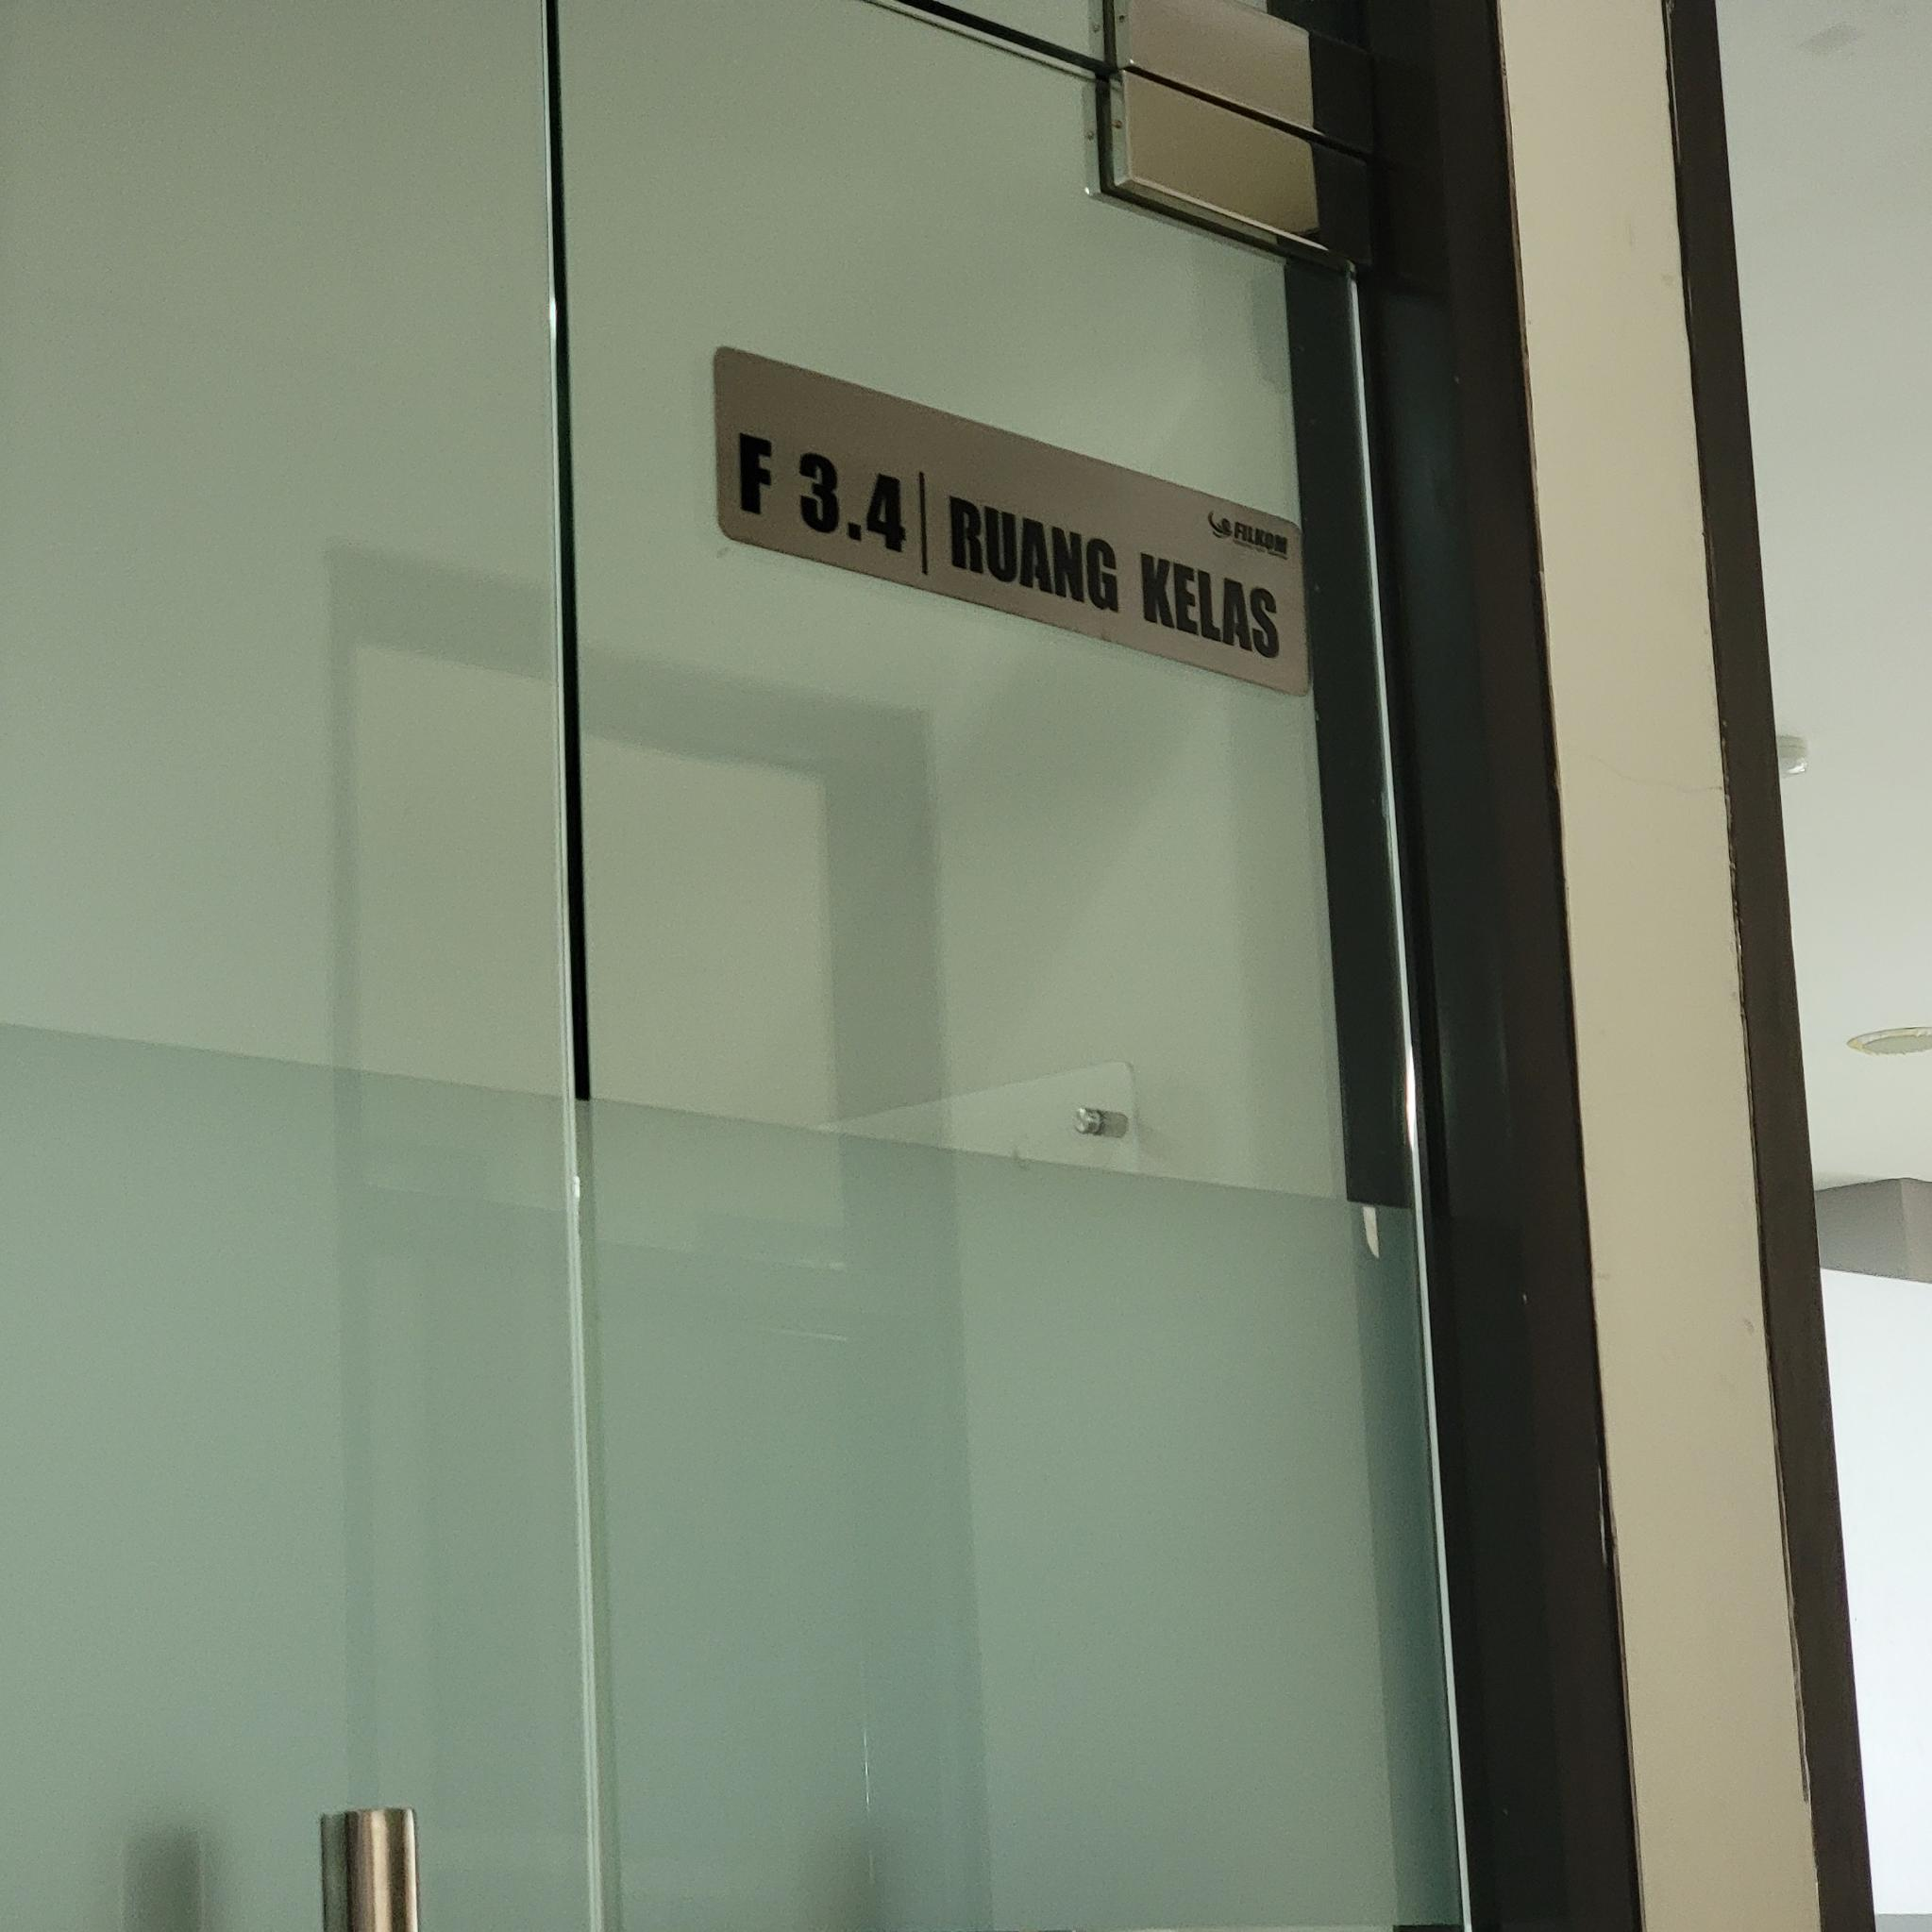plate: (715, 341, 1309, 701)
